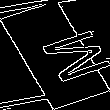M_SW: (12, 24, 98, 86)
